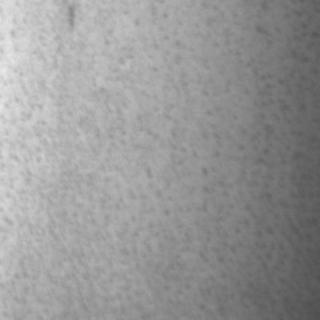pitted_surface: (122, 2, 318, 318)
